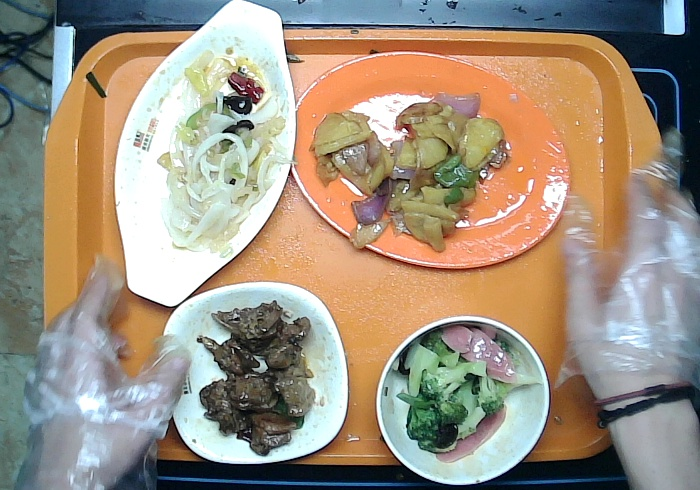NLDX-Bai_Se_Xiao_Fang_Die: (164, 281, 350, 463)
NLDX-Fan_Wan: (375, 315, 551, 484)
NLDX-Ju_Se_Pan: (290, 50, 570, 268)
NLDX-Yu_Pan: (114, 1, 297, 307)
